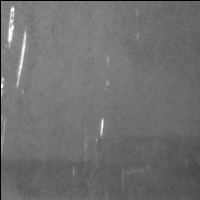scratches: (3, 3, 28, 91), (90, 114, 107, 144)
